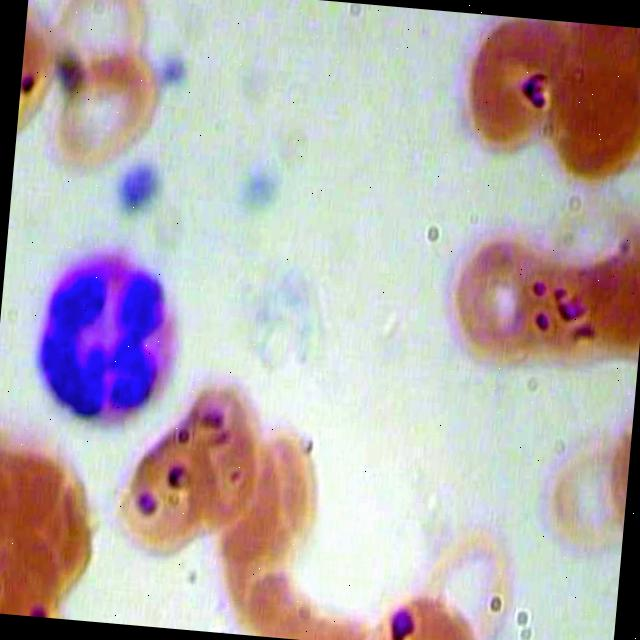Platelets: (114, 157, 166, 215)
RBC: (39, 35, 170, 181), (105, 413, 235, 559), (442, 207, 558, 369), (456, 11, 576, 158), (226, 416, 328, 548), (422, 513, 524, 640), (549, 50, 640, 183), (0, 530, 71, 618)
WBC: (22, 234, 189, 436)
